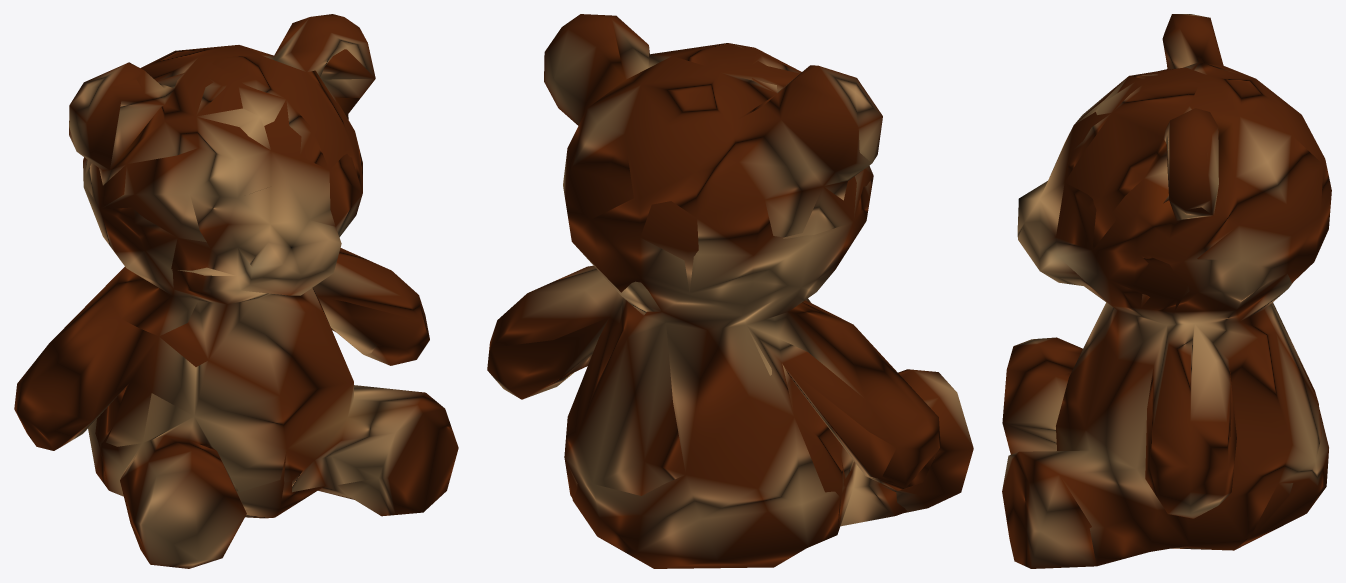
File: gen3d-teddy-bear-lod1.glb
3 views of the same model, side by side, from view 1: azimuth 30°, elevation 25°; view 2: azimuth 150°, elevation 25°; view 3: azimuth 270°, elevation 25° (orthographic). The views are drawn at different scales.
Visible parts, largest first — view 1: part_0; view 2: part_0; view 3: part_0.
Part boxes in pixels (bbox=[...]): part_0: bbox=[14, 14, 458, 568]; part_0: bbox=[487, 14, 973, 568]; part_0: bbox=[1002, 14, 1331, 568].
Bounding box in the file's own units: 0.9513 × 1 × 0.658.
